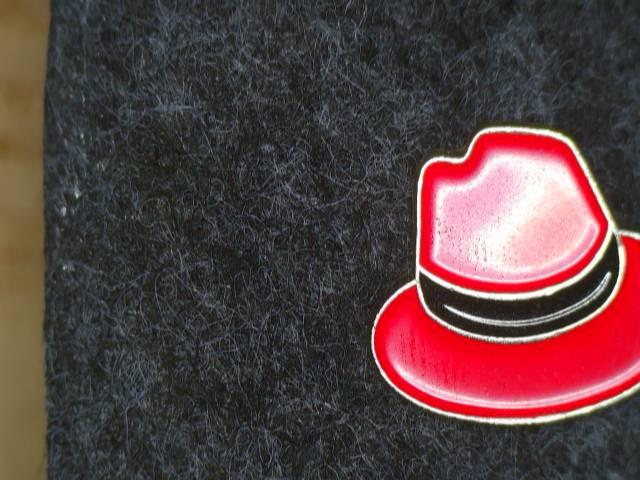Red-Hat: (347, 97, 640, 443)
